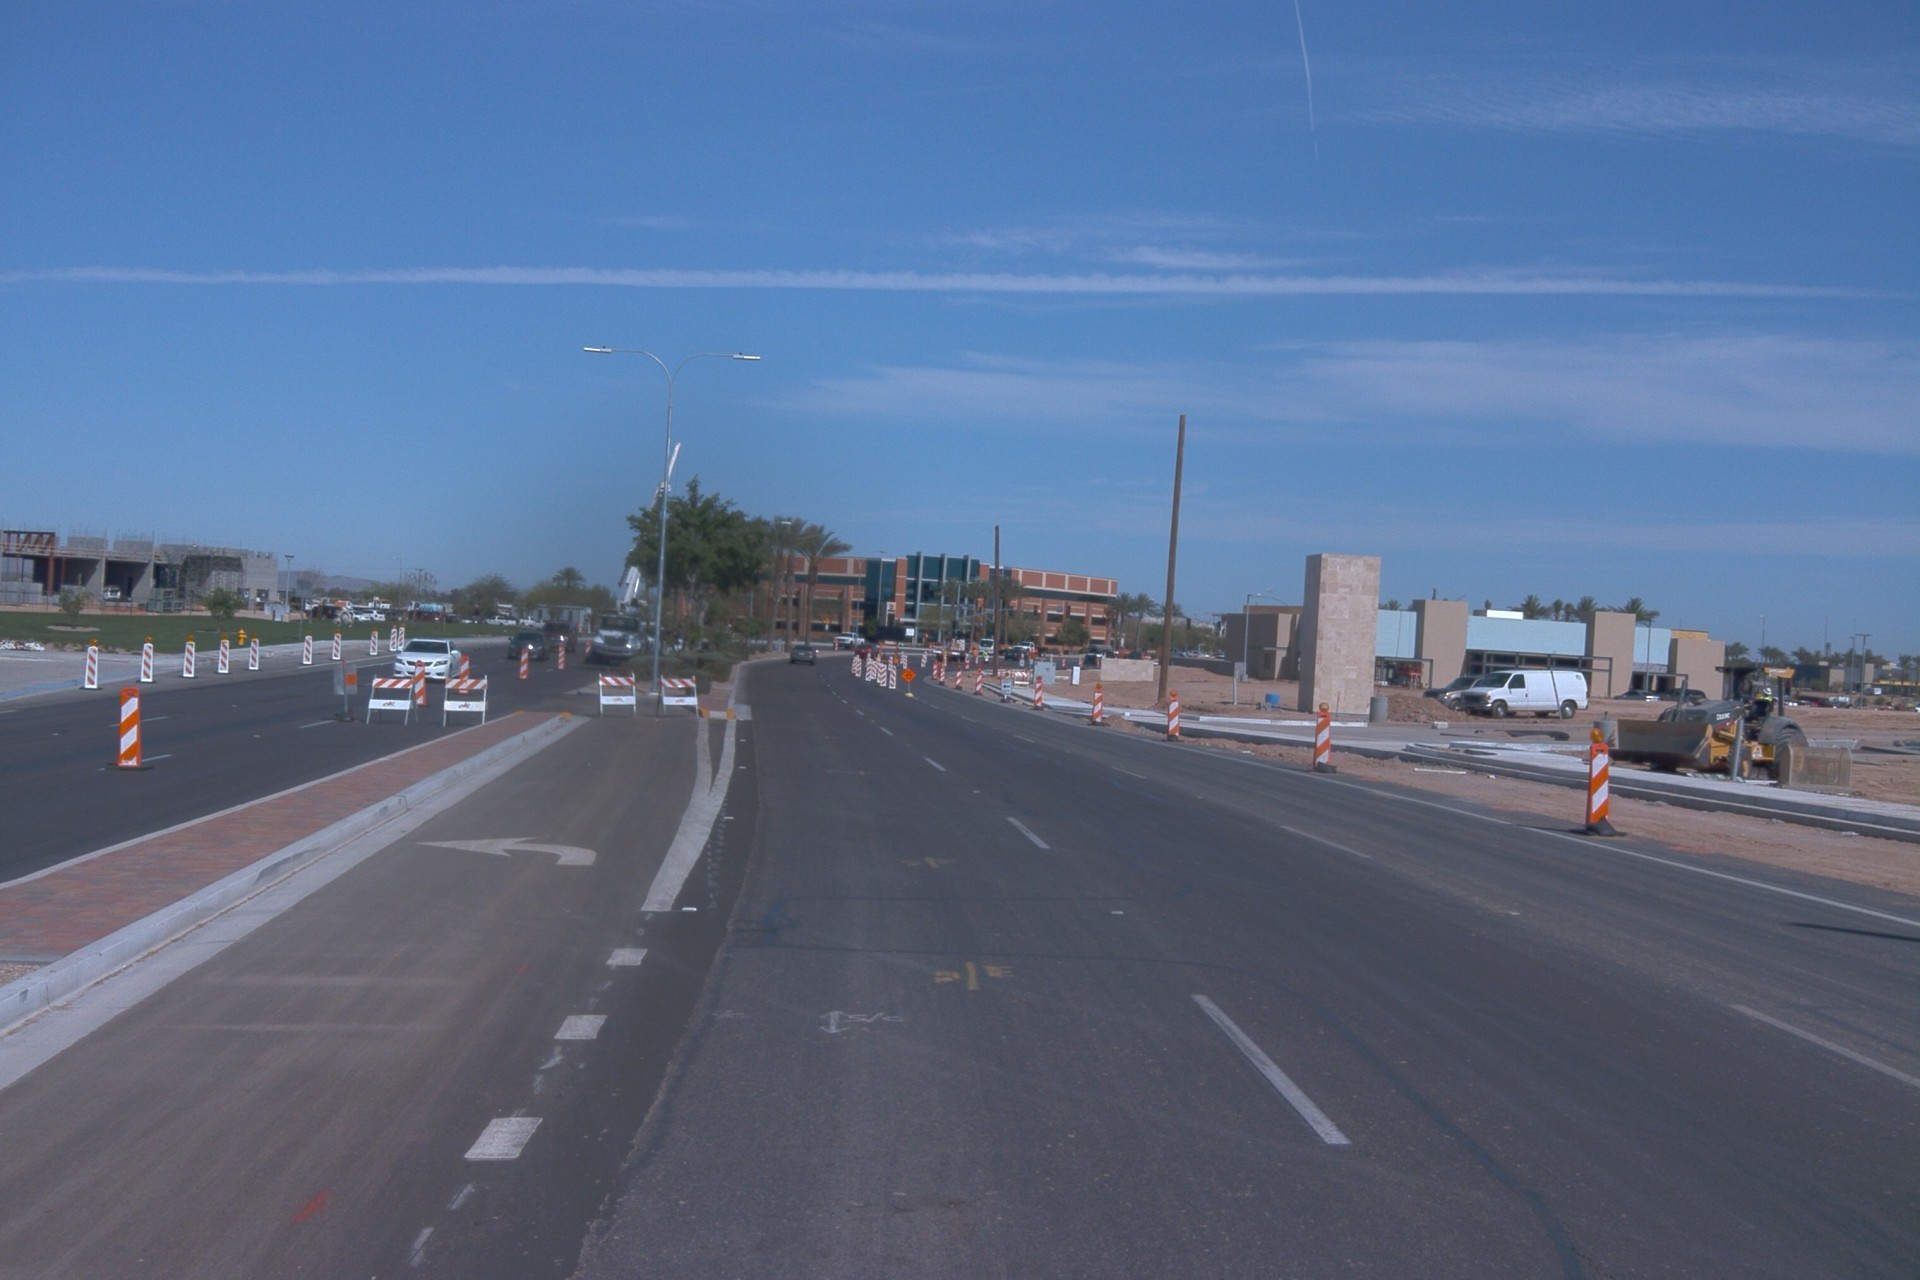TYPE_PEDESTRIAN: (1758, 687, 1774, 707), (981, 650, 987, 667)
TYPE_VEHICLE: (577, 434, 689, 675), (1457, 669, 1591, 722), (392, 636, 463, 682), (1421, 675, 1486, 715), (870, 622, 906, 672), (535, 620, 580, 656), (928, 635, 978, 667), (509, 628, 550, 660), (1080, 644, 1123, 668), (1794, 694, 1854, 710), (1011, 639, 1053, 660), (303, 603, 344, 624), (1654, 687, 1706, 702), (406, 605, 447, 624), (788, 644, 820, 668), (276, 596, 321, 613), (1610, 689, 1660, 703), (850, 640, 880, 662), (832, 631, 865, 650), (480, 612, 521, 627), (382, 609, 412, 627), (358, 606, 389, 623), (1768, 695, 1805, 709), (975, 635, 999, 655), (346, 608, 374, 625), (99, 583, 119, 606), (1913, 699, 1920, 715)
